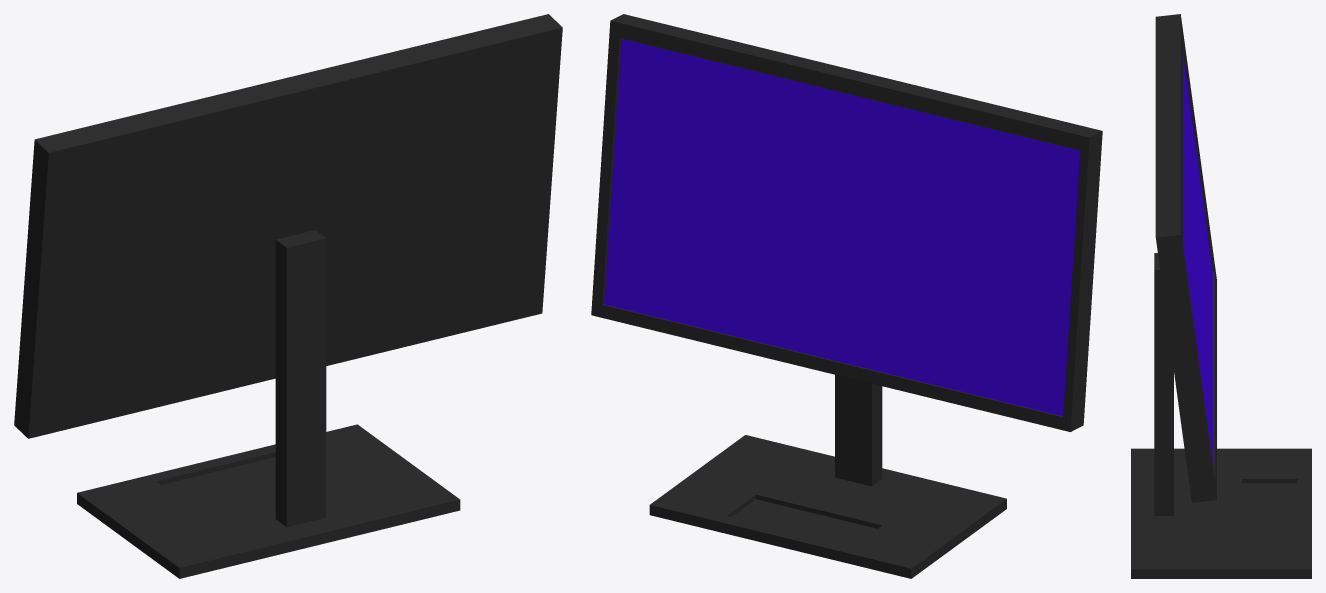
Rendered from MONITOR.fbx.
The picture shows the model from 3 angles, left to right: view 1: azimuth 30°, elevation 25°; view 2: azimuth 150°, elevation 25°; view 3: azimuth 270°, elevation 25°; orthographic projection. The views are drawn at different scales.
Visible parts, largest first — view 1: kasa; view 2: kasa; view 3: kasa.
Part boxes in pixels (x1=…): kasa: x1=14, y1=14, x2=562, y2=578; kasa: x1=591, y1=14, x2=1102, y2=578; kasa: x1=1131, y1=14, x2=1311, y2=578.
Size of the model in its own units: 496 by 413 by 172.
